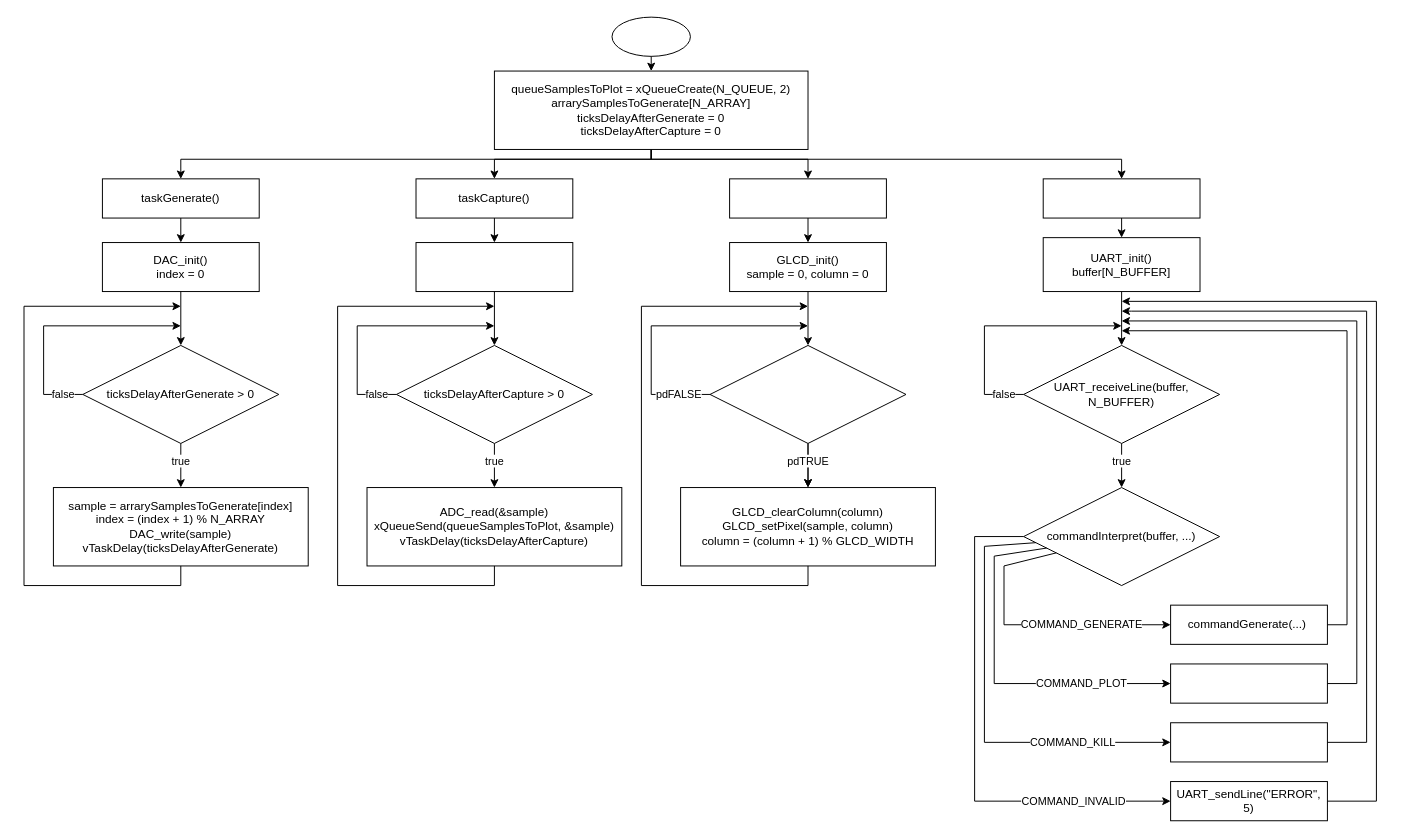
Image size: 1401x838. Some labels were removed from this diagram. Here are the shapes that lost their labels. From the top down, the centre of each, then its label:
(x=650, y=36): Start
(x=807, y=198): taskPlot()
(x=1121, y=198): taskTerminal()
(x=494, y=267): ADC_init() sample = 0
(x=807, y=393): xQueueReceive( queueSamplesToPlot, &sample, TIMEOUT )
(x=1248, y=683): commandPlot(...)
(x=1248, y=742): commandKill(...)
